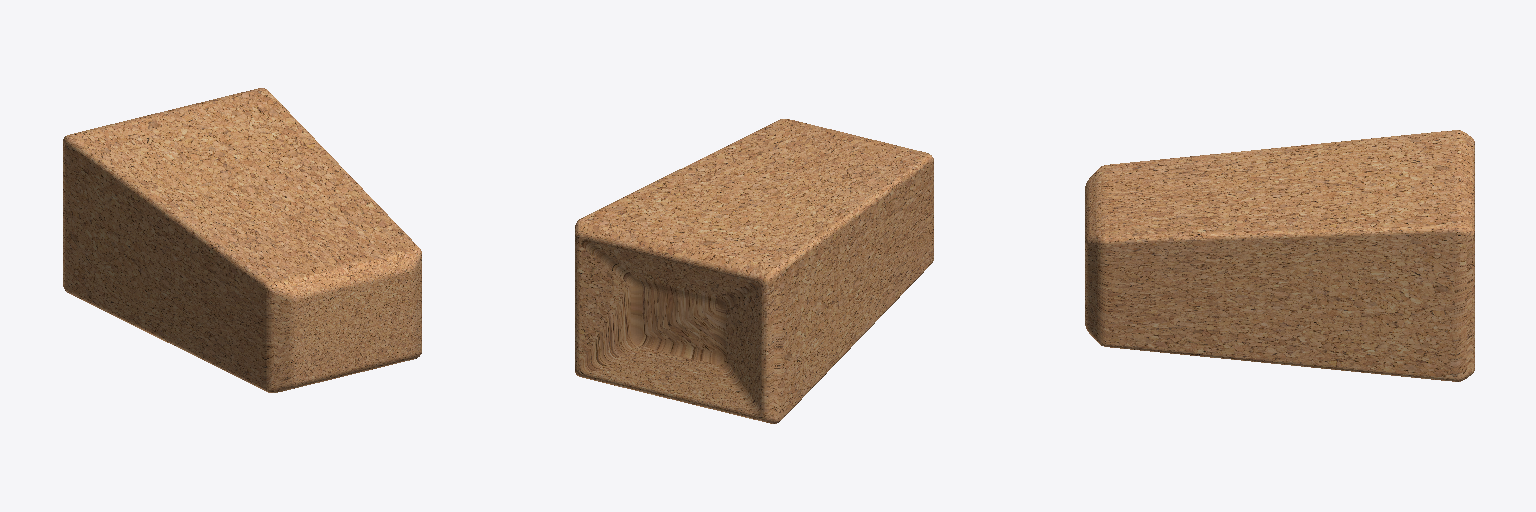
3 renders of one model, left to right at view 1: azimuth 30°, elevation 25°; view 2: azimuth 150°, elevation 25°; view 3: azimuth 270°, elevation 25°, orthographic.
Bounding box in the file's own units: 0.4119 × 0.3023 × 0.6826.
1 materials, 1 textured.